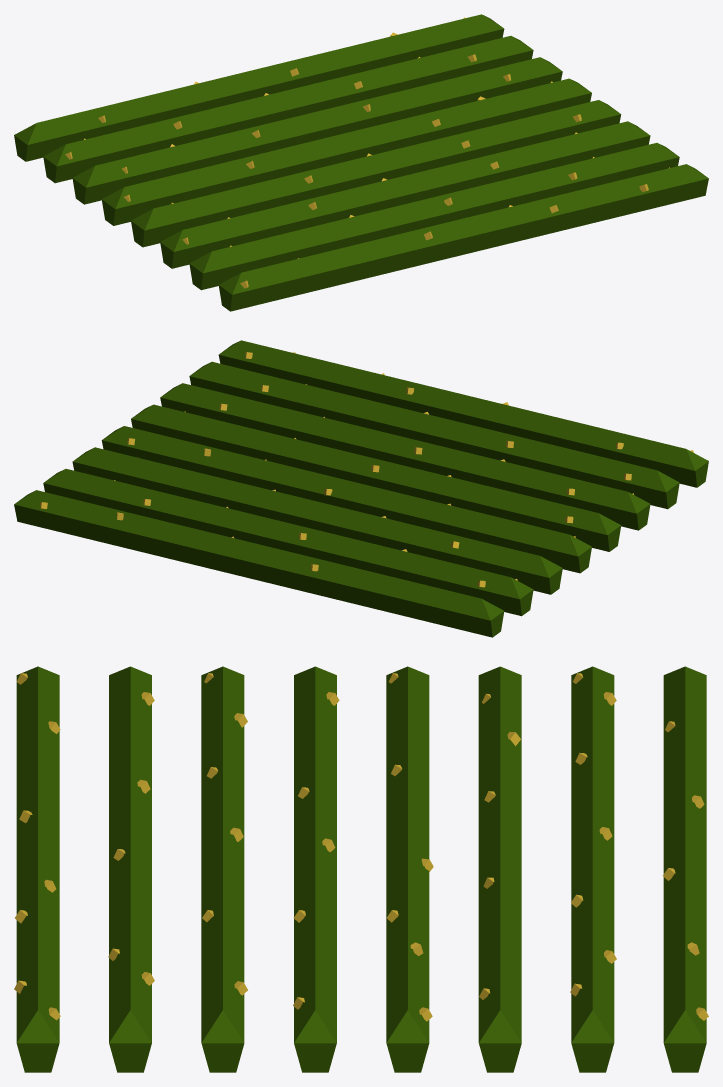
File: co_Vegetables07.fbx
The picture shows the model from 3 angles, top to bottom: view 1: azimuth 30°, elevation 25°; view 2: azimuth 150°, elevation 25°; view 3: azimuth 270°, elevation 25°; orthographic projection. The views are drawn at different scales.
Parts seen in each view (by area): view 1: Vegetables07; view 2: Vegetables07; view 3: Vegetables07.
Part boxes in pixels (x1,y1,x2,y2): Vegetables07: [14, 14, 708, 311]; Vegetables07: [14, 340, 708, 637]; Vegetables07: [14, 666, 708, 1072].
Bounding box in the file's own units: 1958 × 127 × 1563.
